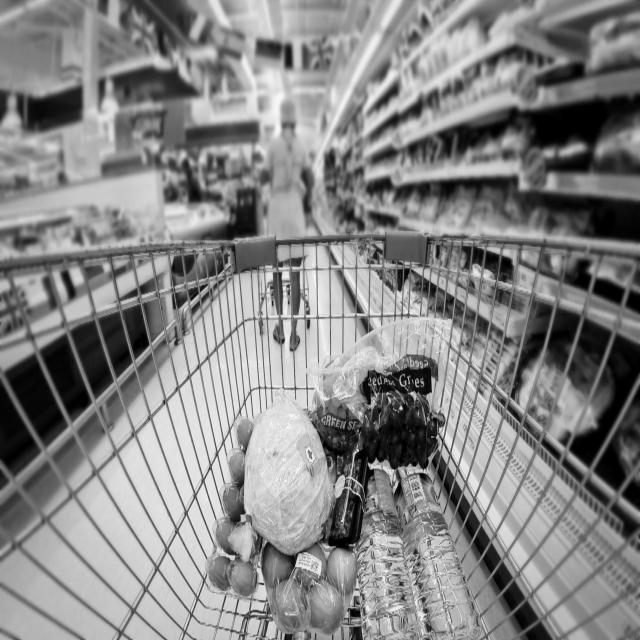apple: (263, 535, 360, 631)
bap cai: (248, 403, 333, 558)
egg: (205, 412, 263, 598)
grape: (356, 348, 451, 479)
